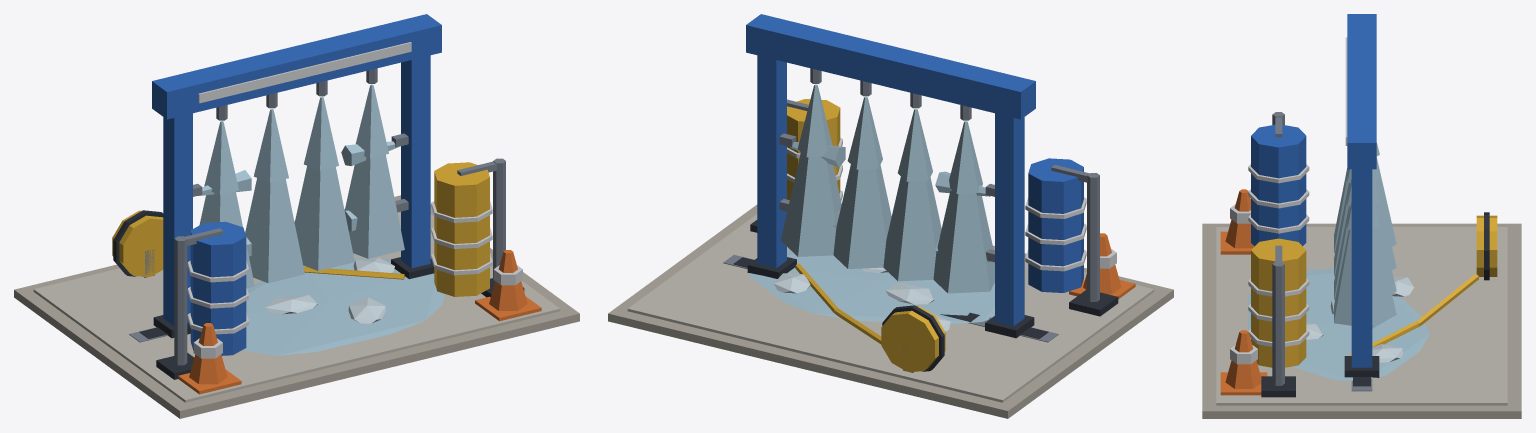
Rendered from wash_bay.glb.
3 views of the same model, side by side, from view 1: azimuth 30°, elevation 25°; view 2: azimuth 150°, elevation 25°; view 3: azimuth 270°, elevation 25° (orthographic). The views are drawn at different scales.
Parts seen in each view (by area): view 1: wash_bay; view 2: wash_bay; view 3: wash_bay.
Part boxes in pixels (x1,y1,x2,y2): wash_bay: (14,14,579,418); wash_bay: (608,14,1173,418); wash_bay: (1202,14,1521,418).
Size of the model in its own units: 6.4 by 3.92 by 4.6.
